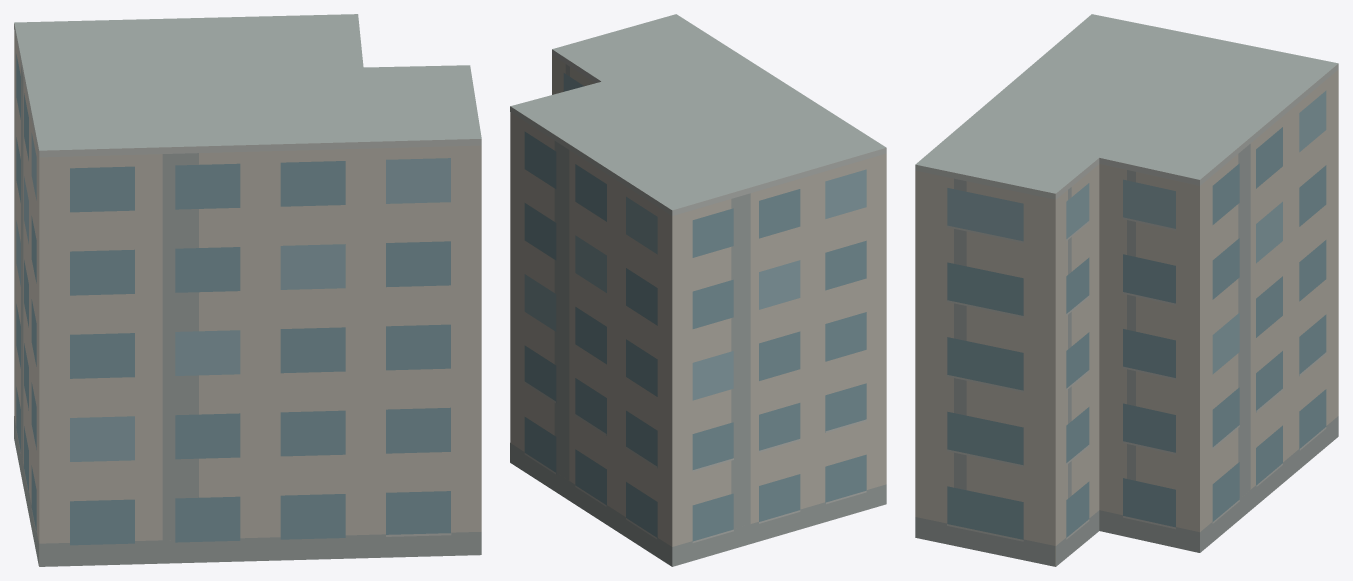
Rendered from survey-upis-32886836.glb.
3 renders of one model, left to right at view 1: azimuth 30°, elevation 25°; view 2: azimuth 150°, elevation 25°; view 3: azimuth 270°, elevation 25°, orthographic. The views are drawn at different scales.
Visible parts, largest first — view 1: survey-upis-32886836.tmp; view 2: survey-upis-32886836.tmp; view 3: survey-upis-32886836.tmp.
Part boxes in pixels (box(x1,y1,x2,y2)): survey-upis-32886836.tmp: box(14, 14, 481, 566); survey-upis-32886836.tmp: box(510, 14, 886, 566); survey-upis-32886836.tmp: box(915, 14, 1338, 566).
Bounding box in the file's own units: 15.61 × 15.1 × 15.54.
